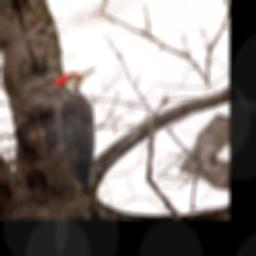Woodpecker: (39, 64, 131, 196)
